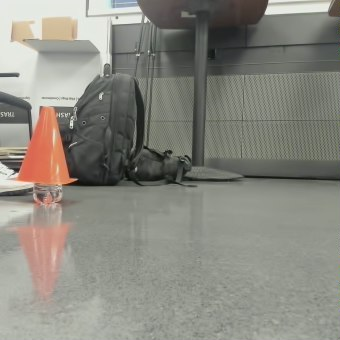Cone: (18, 105, 69, 182)
